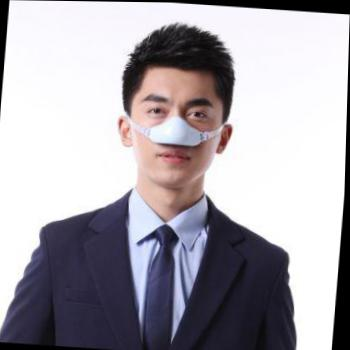WRONG: (119, 84, 224, 187)
